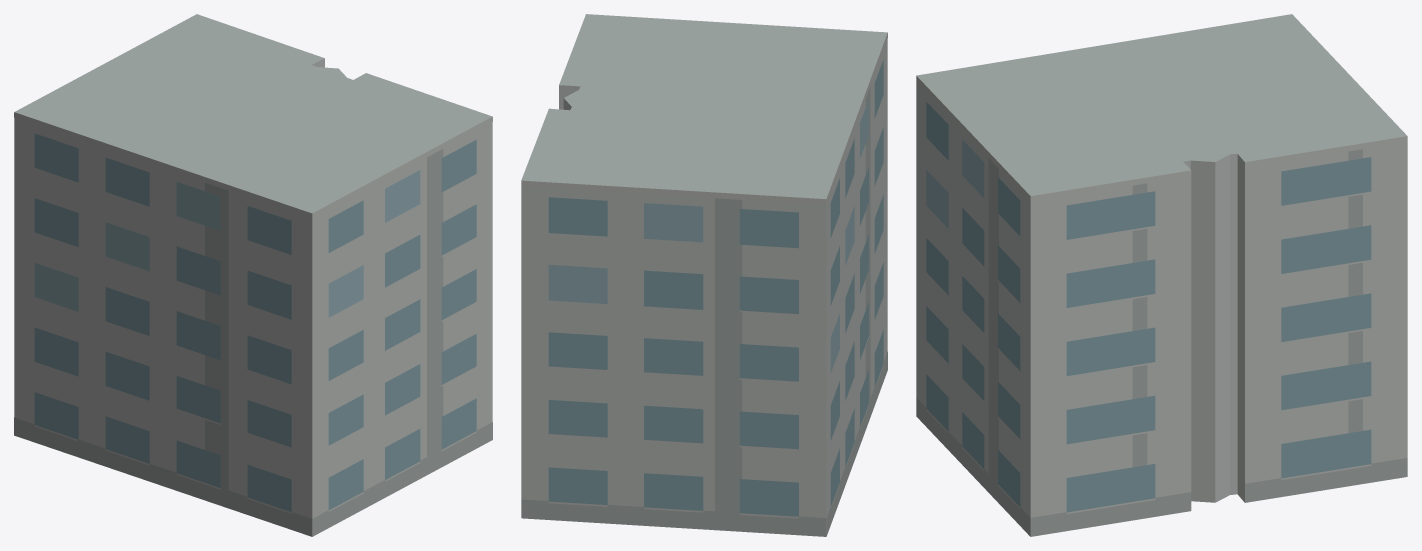
File: survey-upis-32881619.glb
3 renders of one model, left to right at view 1: azimuth 30°, elevation 25°; view 2: azimuth 150°, elevation 25°; view 3: azimuth 270°, elevation 25°, orthographic. The views are drawn at different scales.
Parts seen in each view (by area): view 1: survey-upis-32881619.tmp; view 2: survey-upis-32881619.tmp; view 3: survey-upis-32881619.tmp.
Boxes of the visible parts, bbox=[...] form: survey-upis-32881619.tmp: bbox=[14, 14, 492, 536]; survey-upis-32881619.tmp: bbox=[521, 14, 887, 536]; survey-upis-32881619.tmp: bbox=[916, 14, 1407, 536].
Size of the model in its own units: 16.18 by 14.1 by 18.44.
